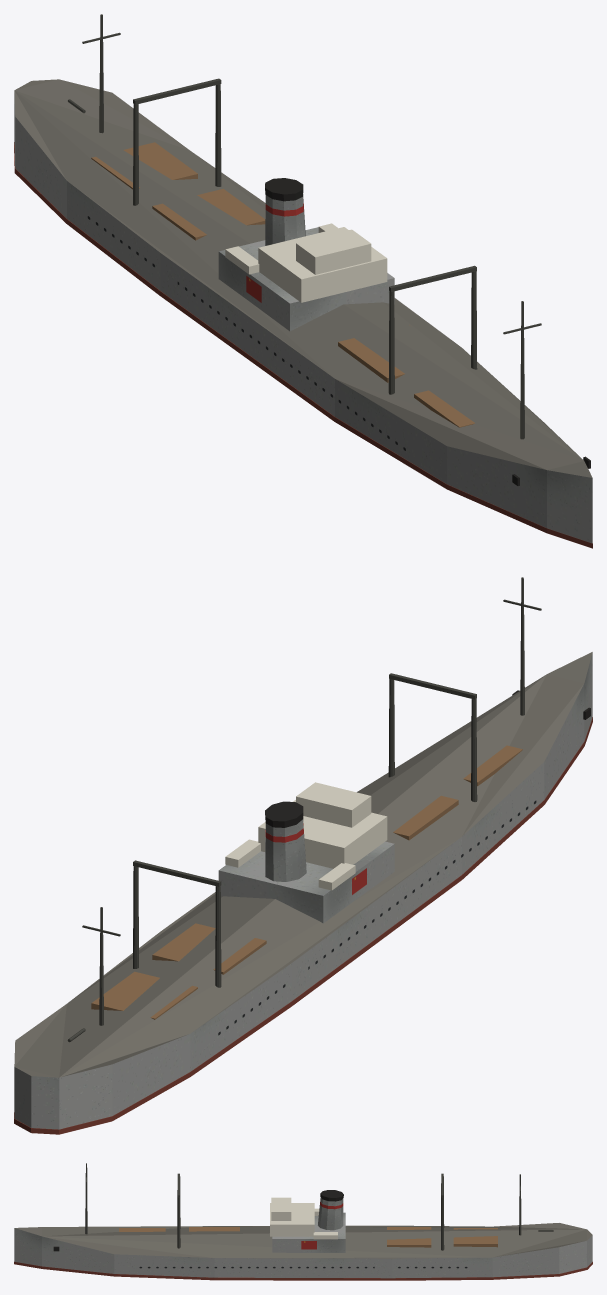
The model's file is cargo.glb.
3 views of the same model, one above another, from view 1: azimuth 30°, elevation 25°; view 2: azimuth 150°, elevation 25°; view 3: azimuth 270°, elevation 25° (orthographic). The views are drawn at different scales.
Parts seen in each view (by area): view 1: coque, chateau, chateau_2, ligne_flottaison, timonerie, cale_3, cale_4, cheminee_1, cale_2, cale_1, coiffe_cheminee_1; view 2: coque, chateau, chateau_2, ligne_flottaison, timonerie, cheminee_1, cale_3, cale_4, cale_2, coiffe_cheminee_1, cale_1; view 3: coque, ligne_flottaison, chateau, chateau_2, cheminee_1, cale_4, cale_3, timonerie, cale_2, coiffe_cheminee_1, hublots_babord, portique_1g (+3 smaller).
Boxes of the visible parts, box(x1,y1,x2,y2) form: coque: box(14, 79, 592, 543); chateau: box(218, 227, 394, 331); chateau_2: box(258, 227, 387, 302); ligne_flottaison: box(14, 142, 592, 548); timonerie: box(296, 229, 371, 274); cale_3: box(152, 188, 265, 240); cale_4: box(91, 142, 197, 189); cheminee_1: box(265, 194, 305, 245); cale_2: box(338, 325, 409, 382); cale_1: box(414, 390, 474, 427); coiffe_cheminee_1: box(265, 178, 303, 201); coque: box(14, 652, 592, 1129); chateau: box(218, 841, 394, 923); chateau_2: box(258, 800, 387, 868); ligne_flottaison: box(14, 717, 592, 1134); timonerie: box(296, 782, 371, 827); cheminee_1: box(265, 819, 306, 881); cale_3: box(152, 923, 266, 974); cale_4: box(91, 971, 197, 1019); cale_2: box(393, 795, 458, 840); coiffe_cheminee_1: box(265, 801, 303, 827); cale_1: box(463, 745, 522, 786); coque: box(14, 1223, 592, 1278); ligne_flottaison: box(14, 1261, 592, 1280); chateau: box(272, 1212, 345, 1252); chateau_2: box(270, 1203, 314, 1236); cheminee_1: box(318, 1197, 343, 1230); cale_4: box(453, 1228, 497, 1247); cale_3: box(387, 1227, 431, 1247); timonerie: box(271, 1197, 291, 1220); cale_2: box(189, 1227, 239, 1231); coiffe_cheminee_1: box(320, 1190, 343, 1201); hublots_babord: box(139, 1266, 467, 1268); portique_1g: box(177, 1197, 180, 1248).
Size of the model in its own units: 0.7042 by 1 by 5.21.
Materials: 10 (3 with a texture image).
